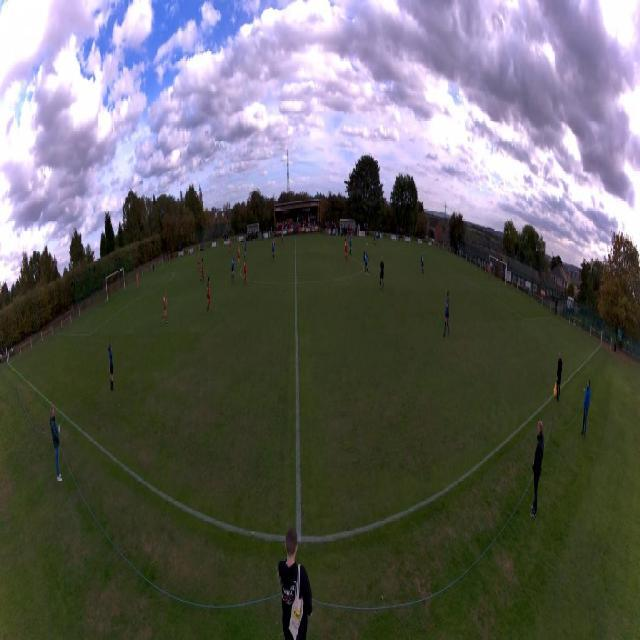ball: (366, 243, 367, 245)
player: (108, 342, 115, 391), (443, 291, 449, 337), (379, 256, 385, 291), (162, 291, 168, 323), (363, 250, 370, 276), (230, 253, 235, 283), (207, 277, 211, 311), (343, 238, 348, 262), (200, 258, 204, 283), (420, 254, 424, 275), (272, 237, 276, 257), (244, 259, 247, 285), (271, 241, 275, 260), (238, 246, 241, 267), (349, 236, 352, 256), (198, 254, 201, 273), (244, 240, 247, 259), (373, 234, 377, 248), (136, 272, 139, 290), (281, 228, 284, 245), (229, 239, 232, 254), (488, 265, 490, 279), (270, 227, 272, 241)
